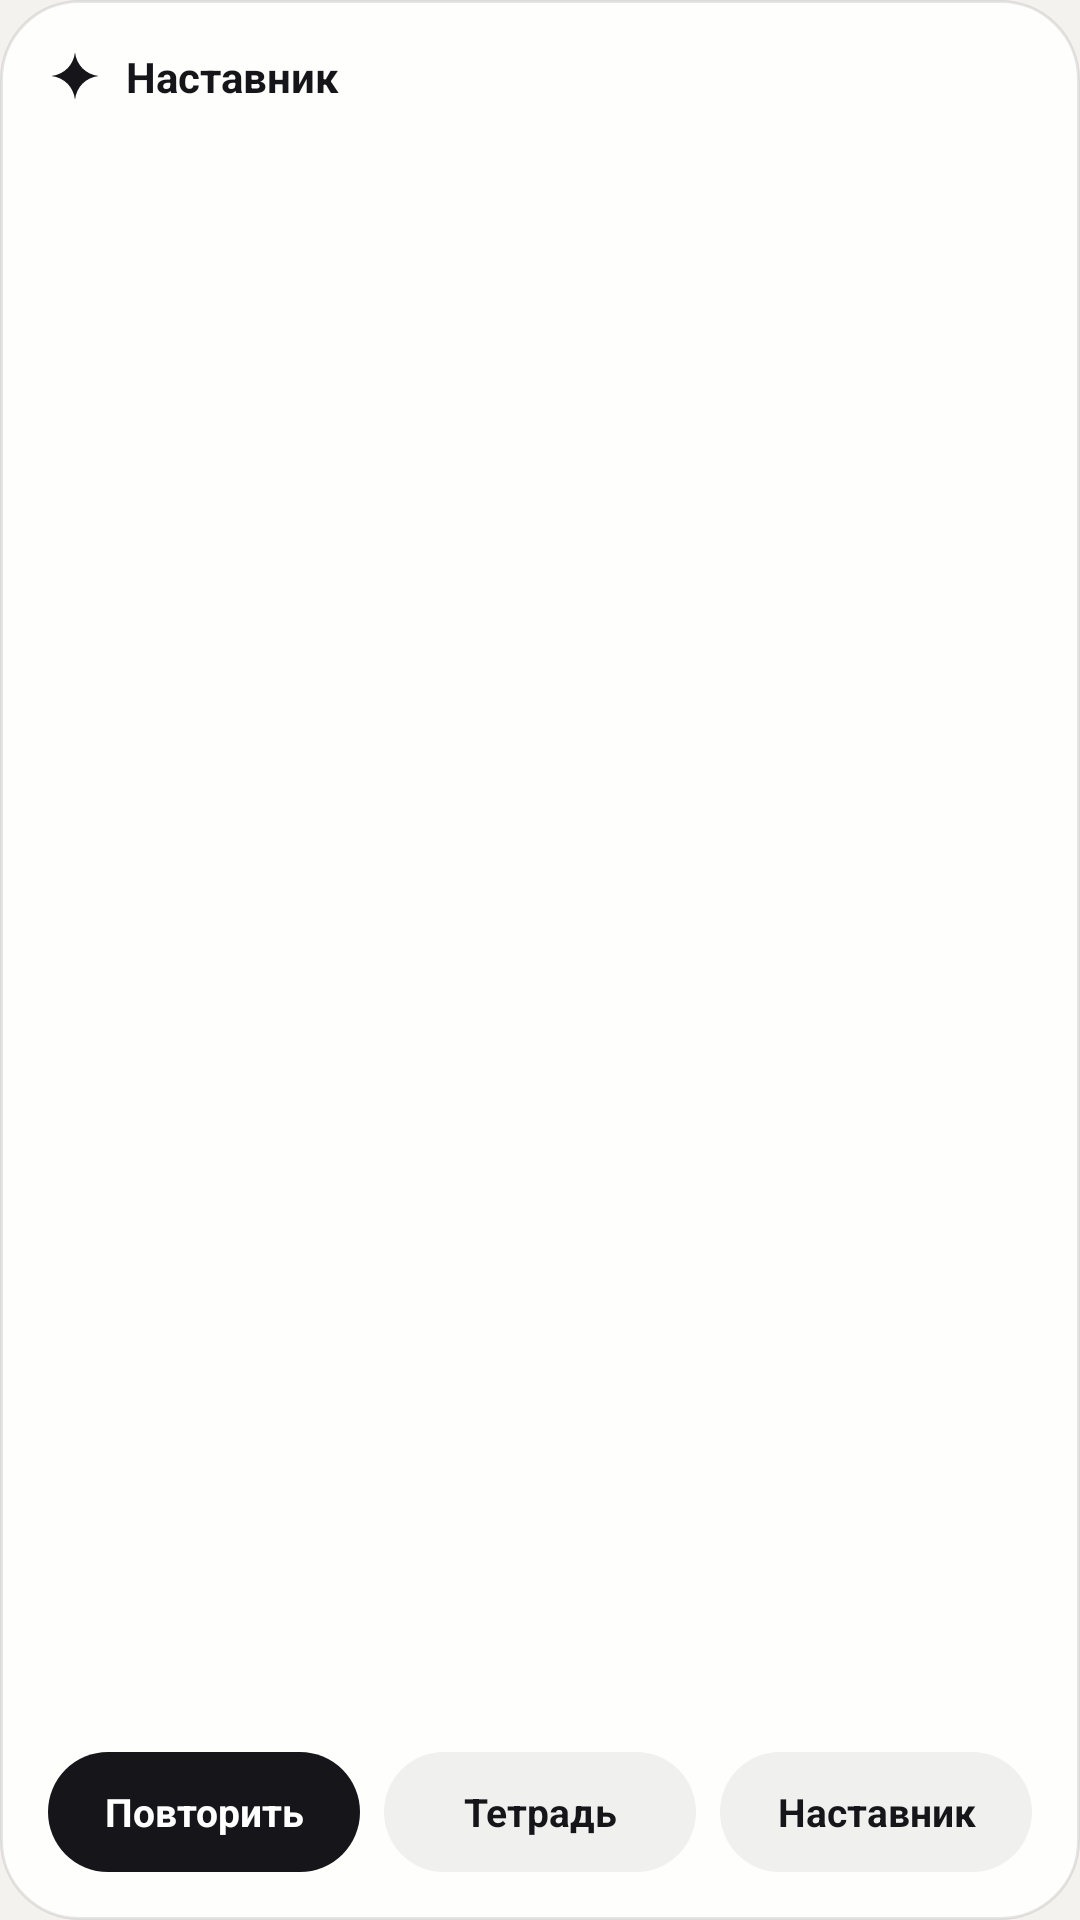

Named icons in this screenshot (1080×1920) and their bounding boxes, (x1, y1, x2, y2):
sparkle: (52, 53, 98, 99)
